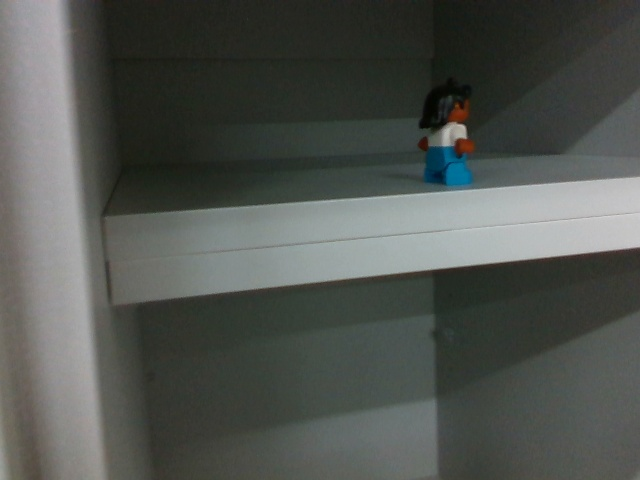people: (416, 80, 478, 189)
